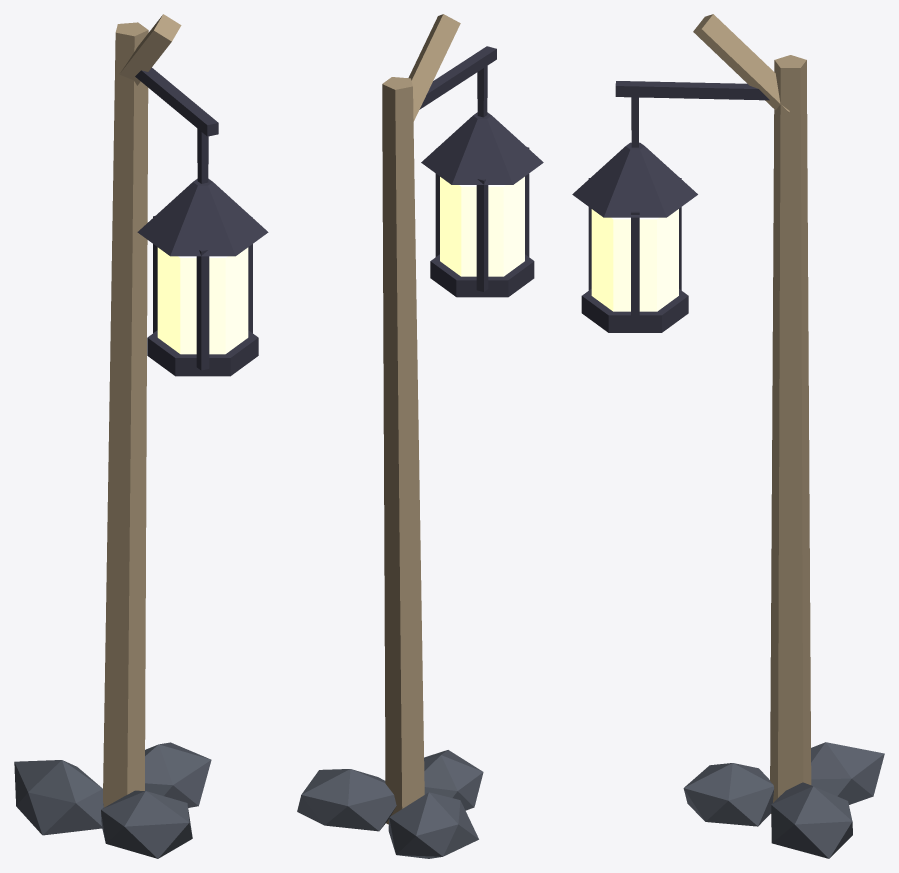
File: hut_lantern.glb
The picture shows the model from 3 angles, left to right: view 1: azimuth 30°, elevation 25°; view 2: azimuth 150°, elevation 25°; view 3: azimuth 270°, elevation 25°; orthographic projection. The views are drawn at different scales.
Parts seen in each view (by area): view 1: driftwood_d10, ink_l15, slate_d20, kindle_glow; view 2: driftwood_d10, ink_l15, slate_d20, kindle_glow; view 3: driftwood_d10, slate_d20, ink_l15, kindle_glow.
Part boxes in pixels (left/top/right/bottom): driftwood_d10: left=103, top=14, right=181, bottom=807; ink_l15: left=135, top=67, right=268, bottom=376; slate_d20: left=14, top=742, right=211, bottom=858; kindle_glow: left=157, top=247, right=248, bottom=354; driftwood_d10: left=382, top=14, right=460, bottom=824; ink_l15: left=419, top=46, right=543, bottom=297; slate_d20: left=297, top=750, right=483, bottom=858; kindle_glow: left=440, top=176, right=524, bottom=276; driftwood_d10: left=693, top=14, right=811, bottom=813; slate_d20: left=683, top=742, right=884, bottom=858; ink_l15: left=572, top=81, right=769, bottom=332; kindle_glow: left=591, top=209, right=678, bottom=311.
Bounding box in the file's own units: 0.4018 × 1.86 × 0.644.
